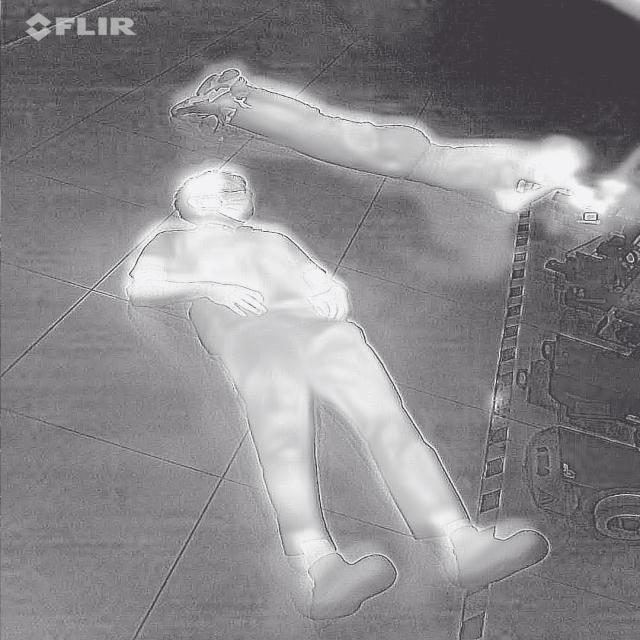Victim: (116, 162, 564, 626), (166, 60, 594, 221)
